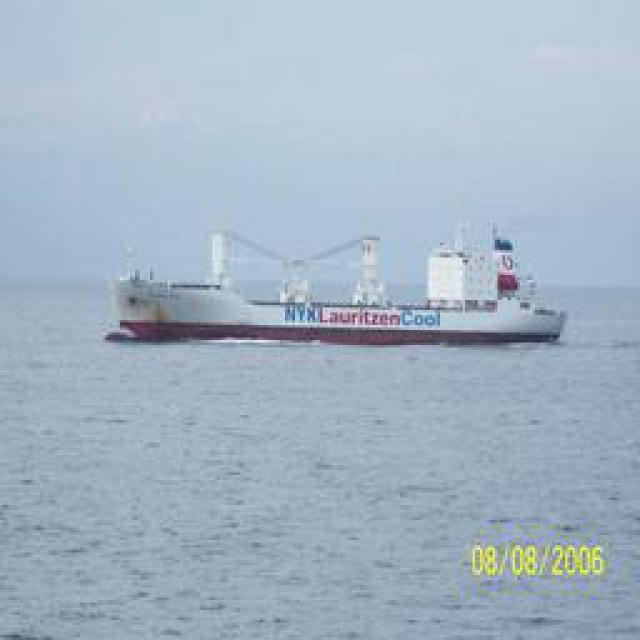Ship: (112, 219, 565, 352)
